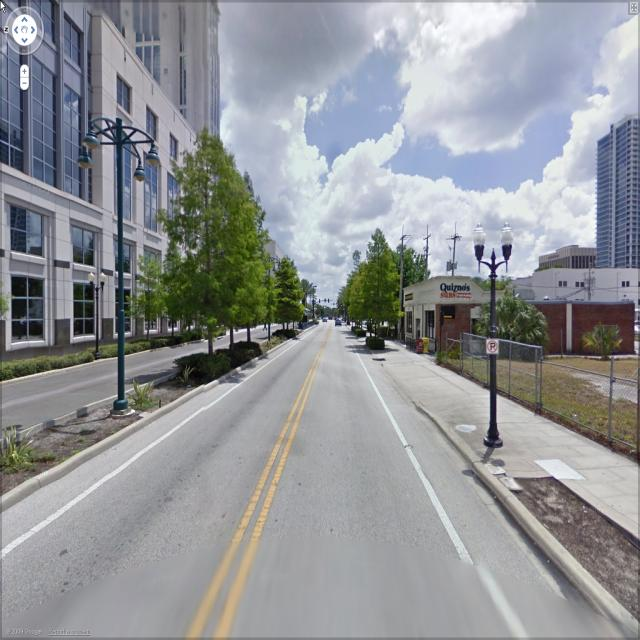b_1: (598, 114, 639, 265), (528, 240, 608, 279)
b_2: (0, 1, 252, 333), (396, 270, 636, 369), (243, 229, 293, 292)
